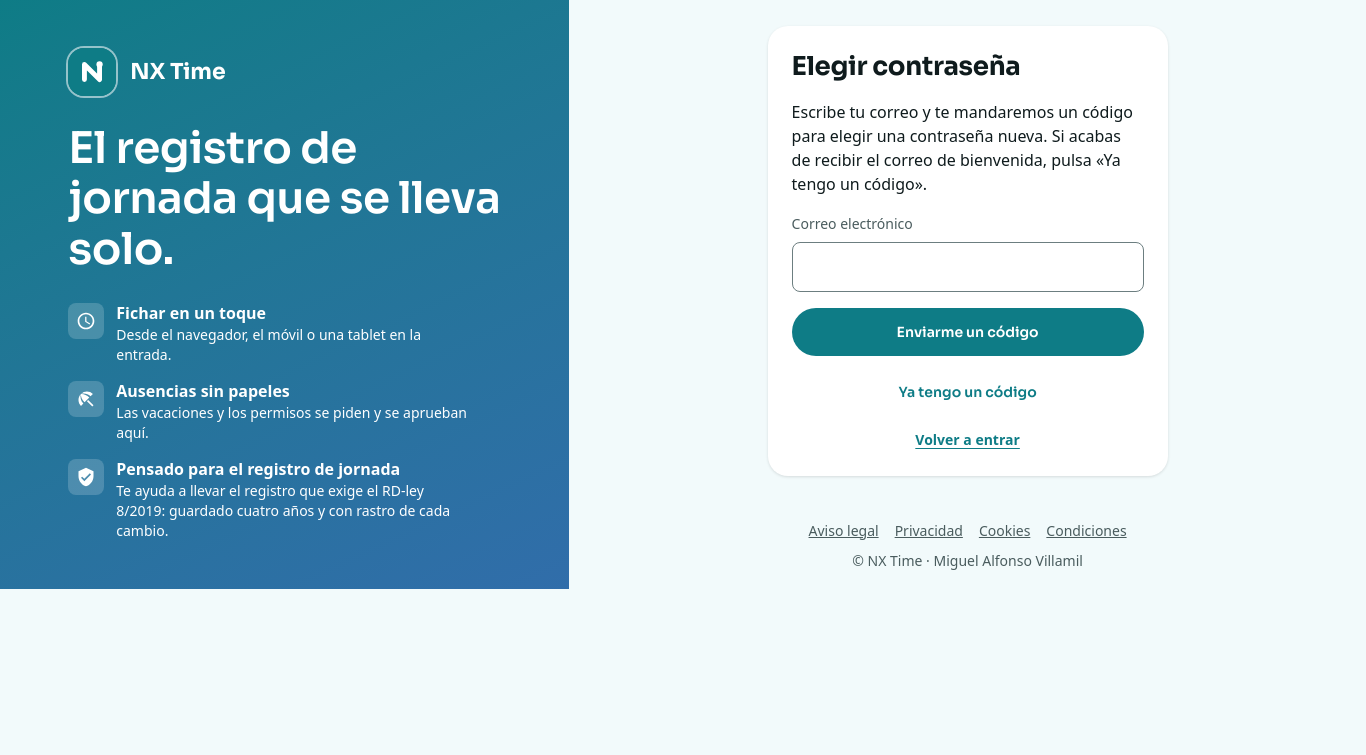
Test: recuperar el acceso › un código que no son 6 dígitos no se manda
Type "ana@nxtime.test" into the field labelled "Correo electrónico" at (968, 267), box [792,242,1144,292]
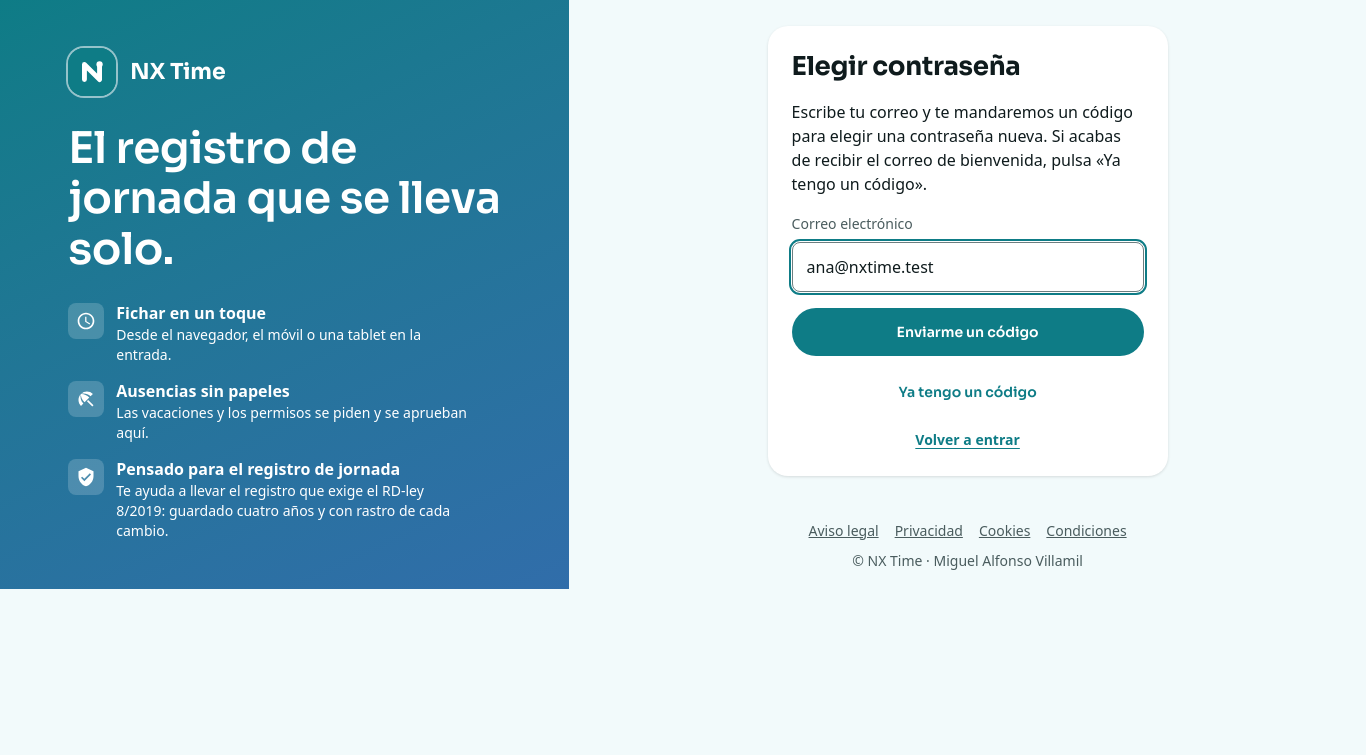
Click the button "Ya tengo un código" at (968, 392), box [792,372,1144,412]
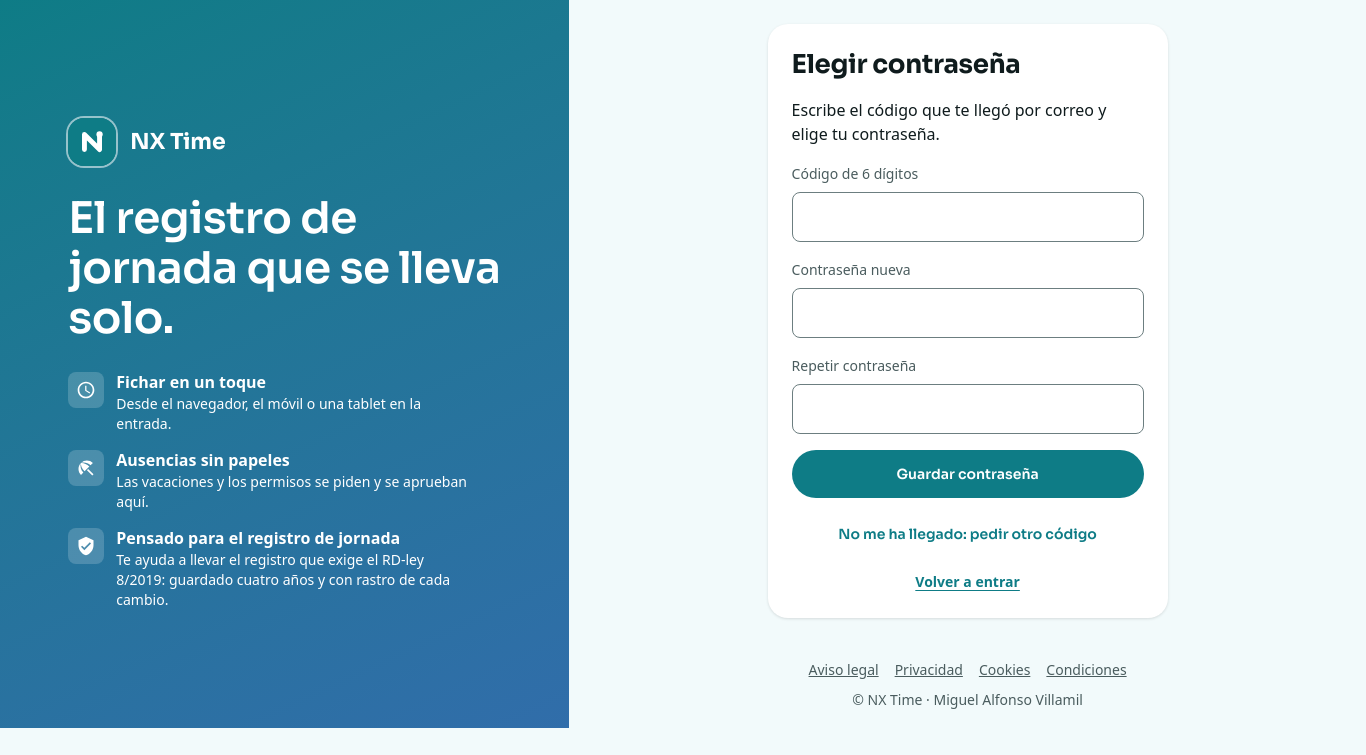
Type "123" into the field labelled "Código de 6 dígitos" at (968, 217), box [792,192,1144,242]
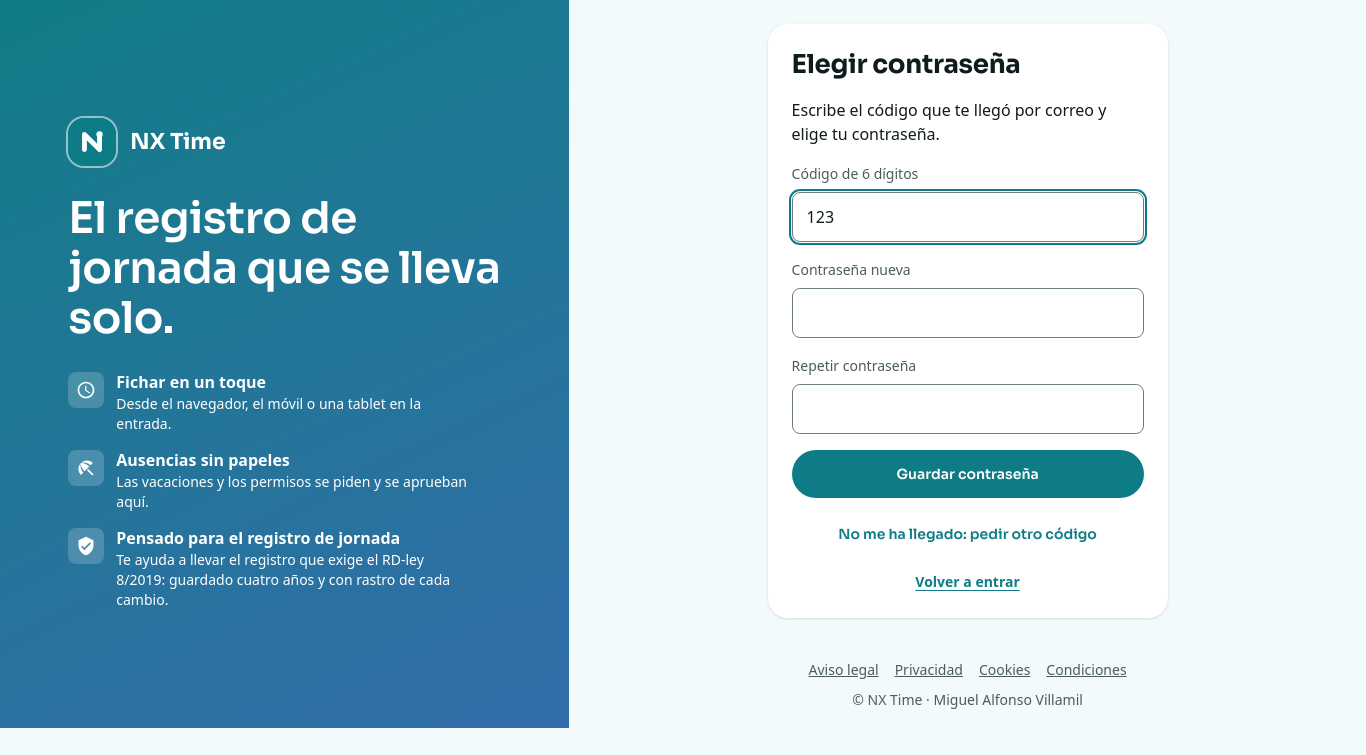
Click the button "Guardar contraseña" at (968, 474), box [792,450,1144,498]
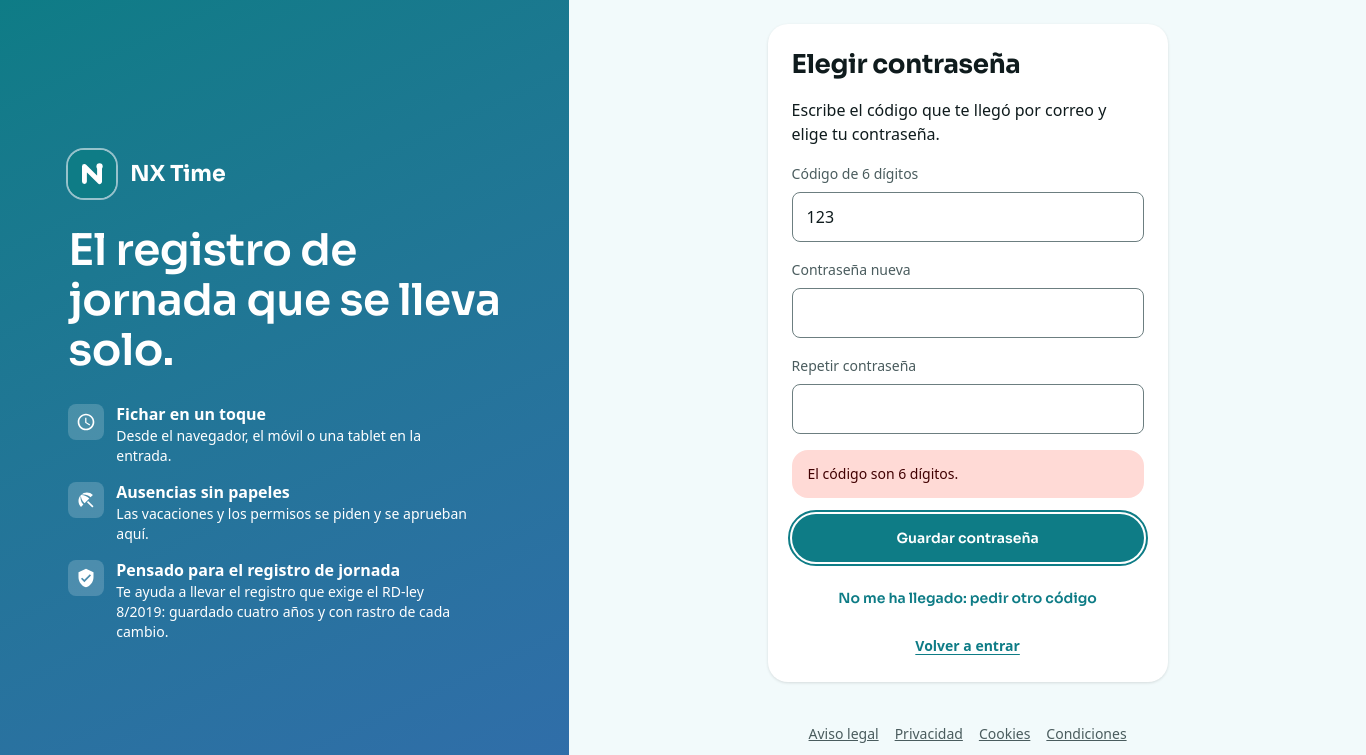
Expected: the message reads "El código son 6 dígitos.", [808,464,958,483]
